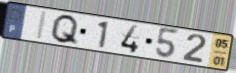1: (96, 21, 112, 49)
2: (182, 33, 209, 65)
4: (119, 24, 141, 55)
5: (154, 26, 181, 61)
I: (35, 10, 49, 42)
Q: (49, 14, 81, 47)
